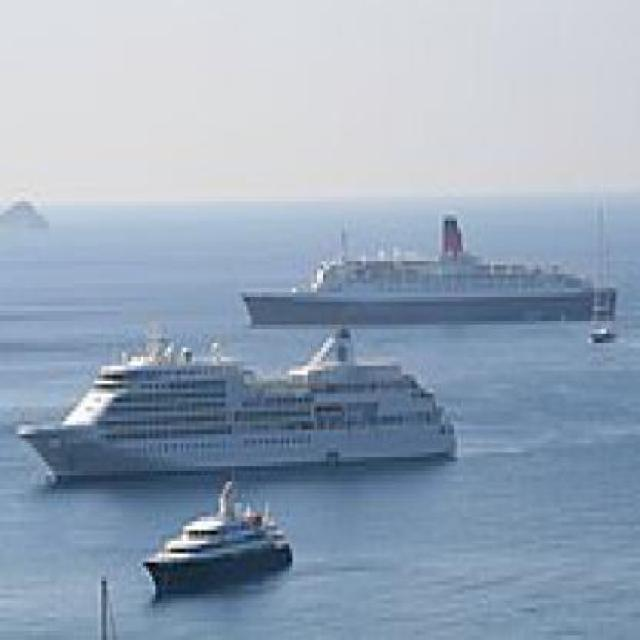cruise: (23, 331, 470, 500), (230, 207, 614, 344)
